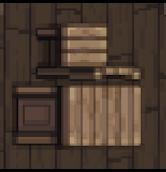Obstacle: (6, 14, 152, 152)
